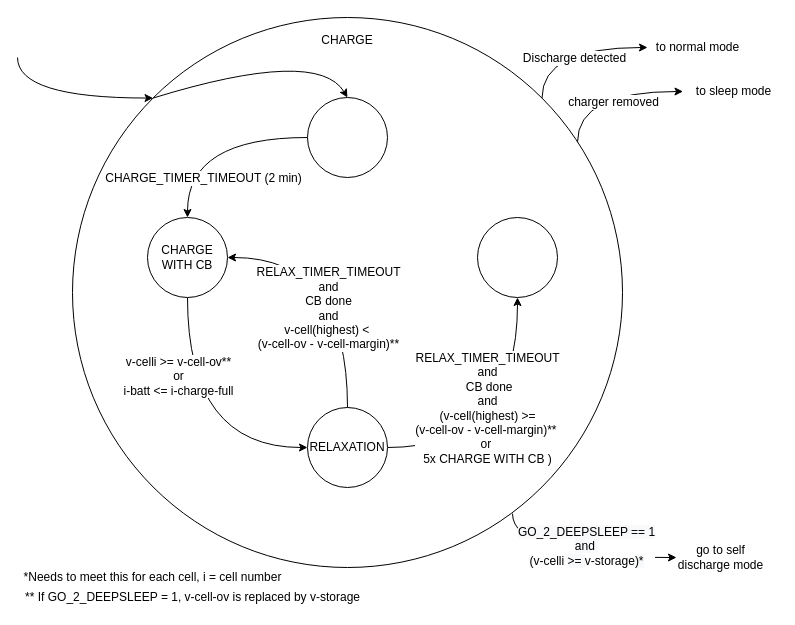
Image size: 795x625. Some labels were removed from this diagram. Each missing label, with the centre of its shape:
"CHARGE COMPLETE" belongs at point 517,257.
"CHARGE START" belongs at point 347,137.
